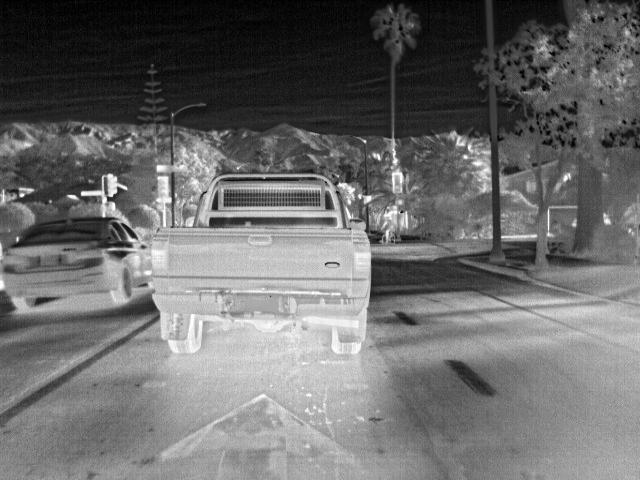car: (147, 170, 374, 354), (2, 218, 145, 314)
person: (381, 214, 394, 230)
